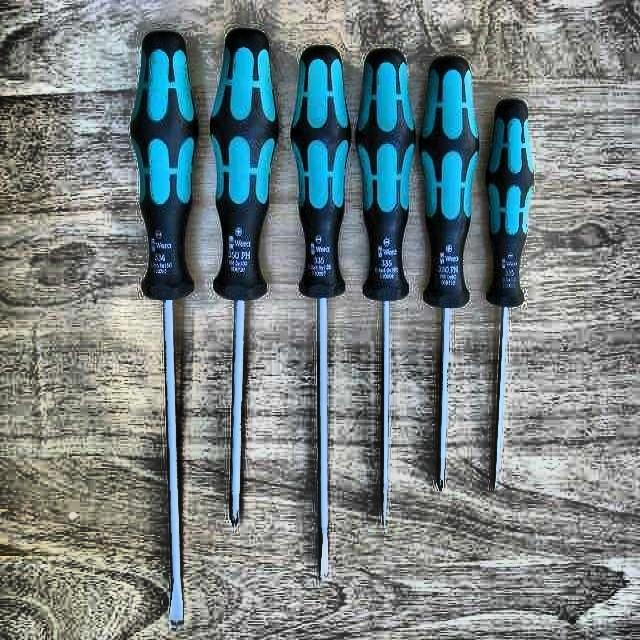screwdriver: (130, 31, 198, 626), (208, 28, 277, 530), (290, 44, 352, 581), (354, 48, 416, 531), (420, 55, 480, 492), (484, 98, 536, 490)
